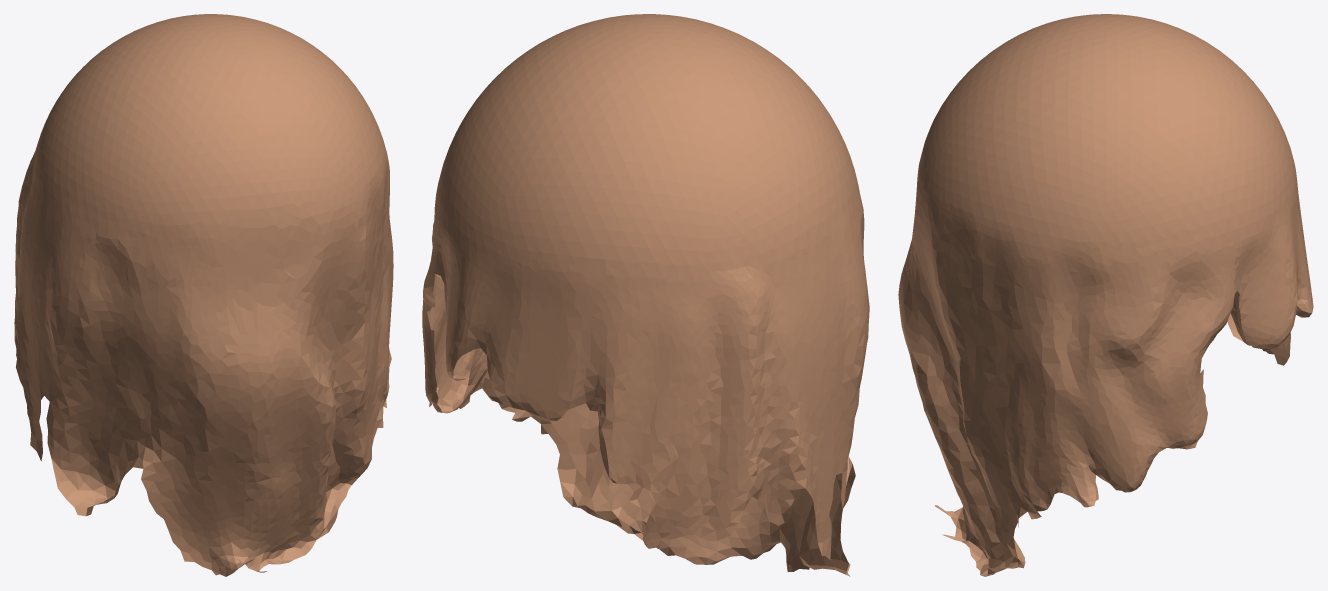
File: basement_detail.glb
3 renders of one model, left to right at view 1: azimuth 30°, elevation 25°; view 2: azimuth 150°, elevation 25°; view 3: azimuth 270°, elevation 25°, orthographic. The views are drawn at different scales.
Visible parts, largest first — view 1: Icosphere; view 2: Icosphere; view 3: Icosphere.
Boxes of the visible parts, x1,y1,x2,y2 form: Icosphere: (14, 14, 393, 576); Icosphere: (422, 14, 869, 576); Icosphere: (898, 14, 1313, 576).
Size of the model in its own units: 106 by 148 by 105.
